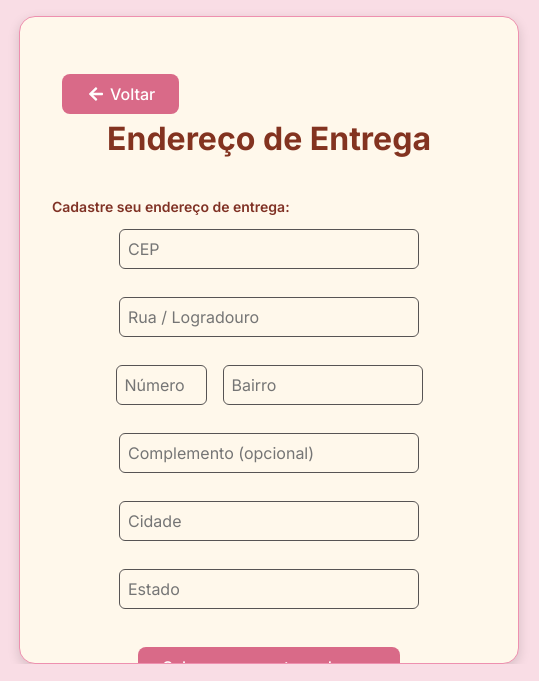
Test: Address › CEP valido (8 digitos) deve disparar busca automatica e preencher os campos
Type "58000000" into the field with placeholder "CEP" at (269, 249), box [119, 229, 419, 269]
Wait 500 ms
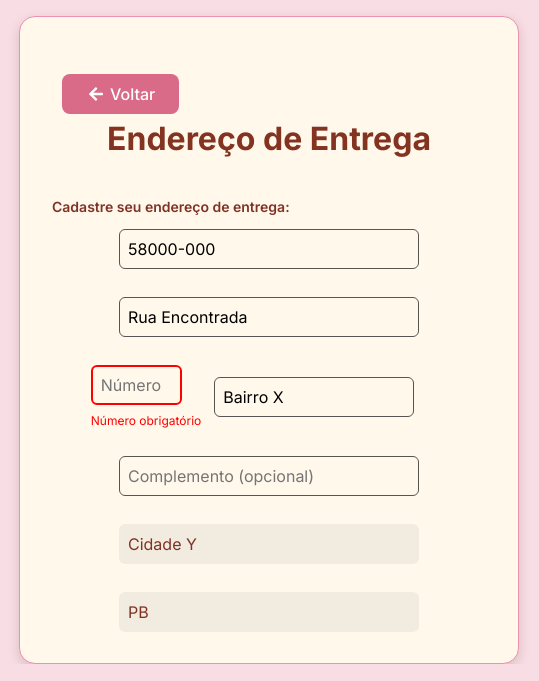
Check: the 2nd field with placeholder "Rua / Logradouro" holds "Rua Encontrada", box [119, 297, 419, 337]
Check: the 4th field with placeholder "Cidade" holds "Cidade Y", box [119, 524, 419, 564]
